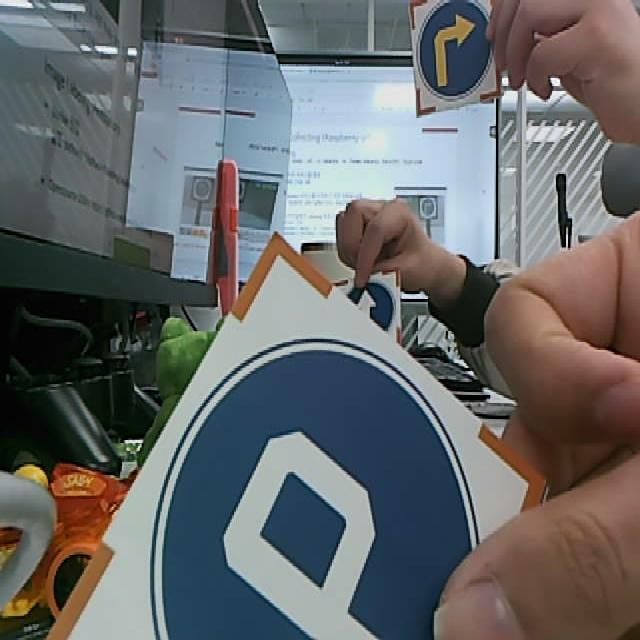parking: (149, 337, 480, 638)
turn: (414, 0, 492, 101)
